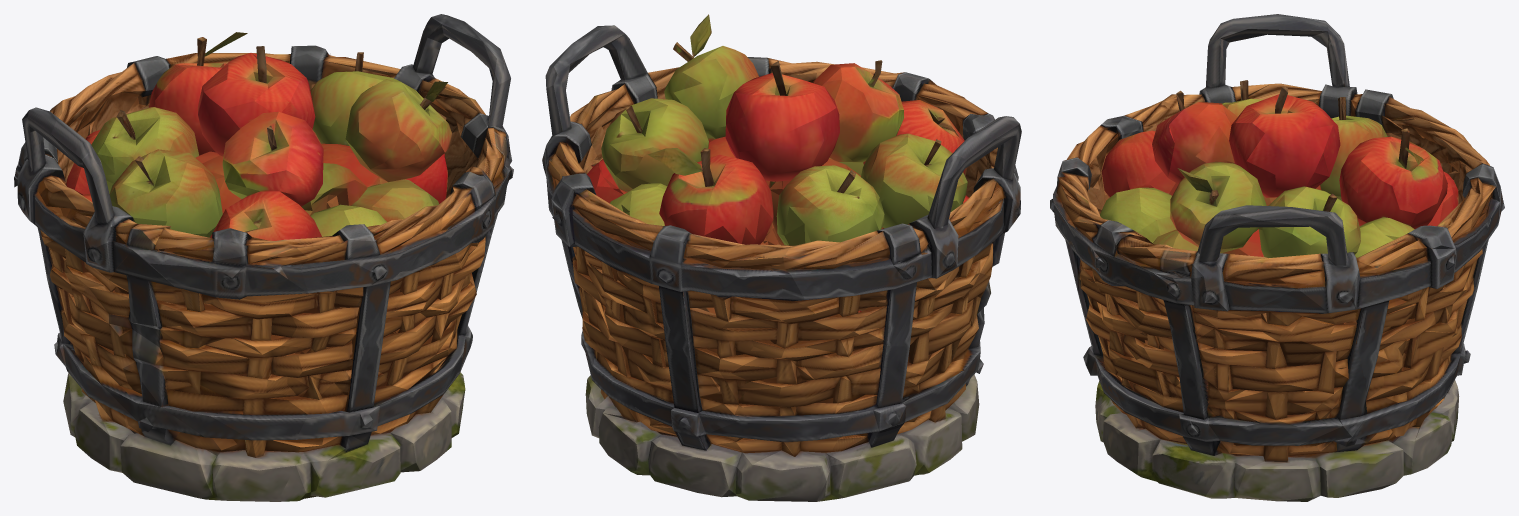
File: basket_v2.glb
The picture shows the model from 3 angles, left to right: view 1: azimuth 30°, elevation 25°; view 2: azimuth 150°, elevation 25°; view 3: azimuth 270°, elevation 25°; orthographic projection. The views are drawn at different scales.
Size of the model in its own units: 1.9 by 1.58 by 1.89.
1 material, 1 textured.
